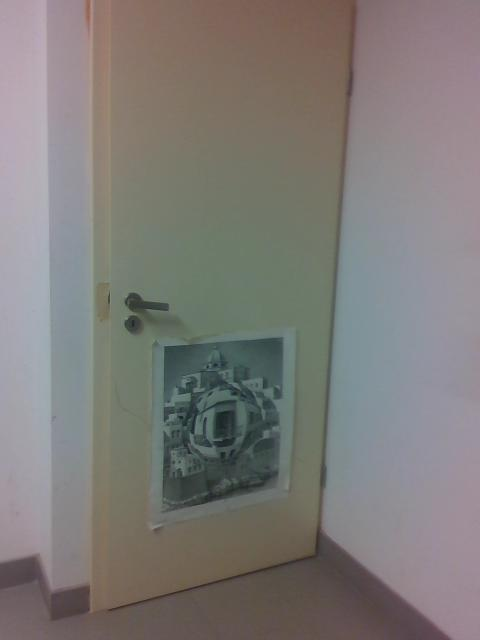door: (111, 1, 352, 609)
